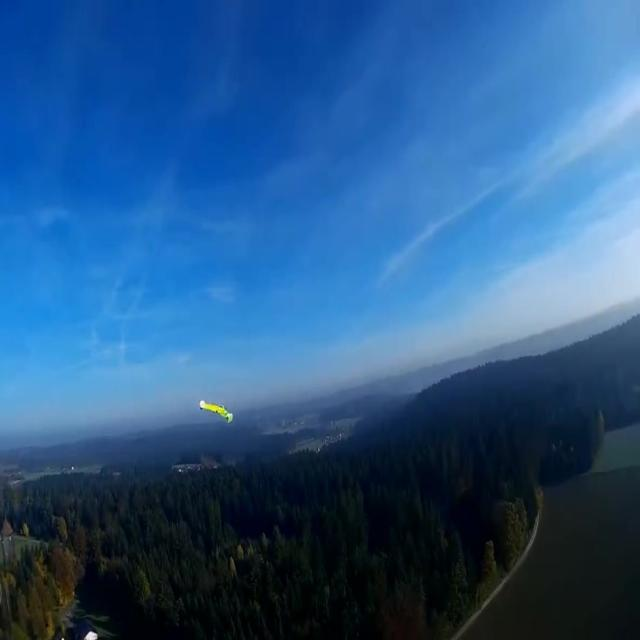iha: (200, 397, 233, 426)
